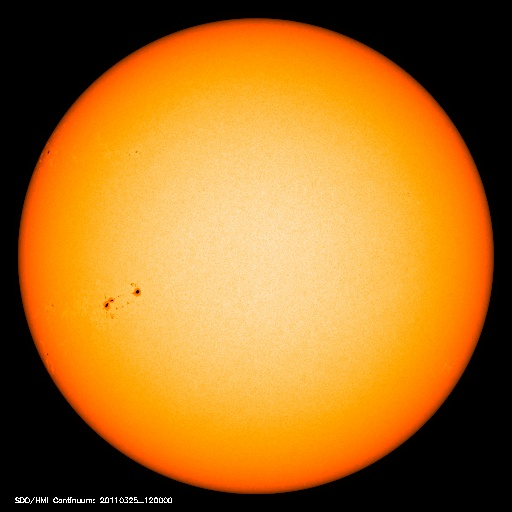sunspot: (96, 278, 146, 328)
